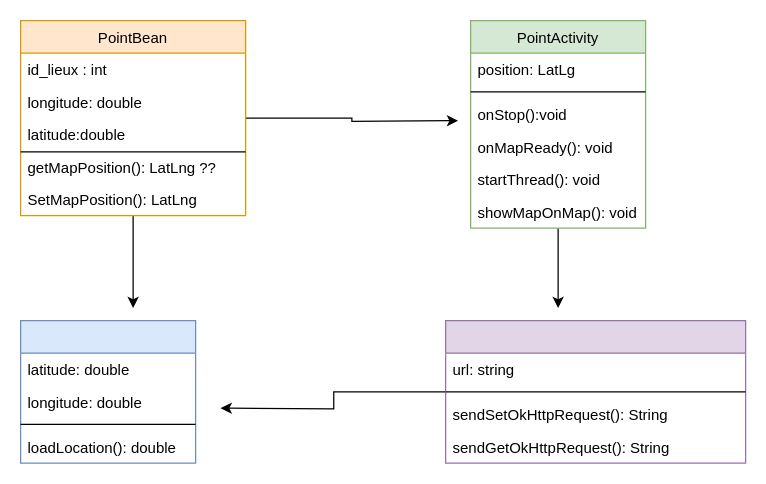
Some shapes in this 766 by 484 pixel diagram are drawn without their labels. Here are the shapes that lost their labels. From the top down, the box of each, then its label:
(19, 319, 196, 463): WSUtils
(444, 319, 746, 463): OkHttpUtils
